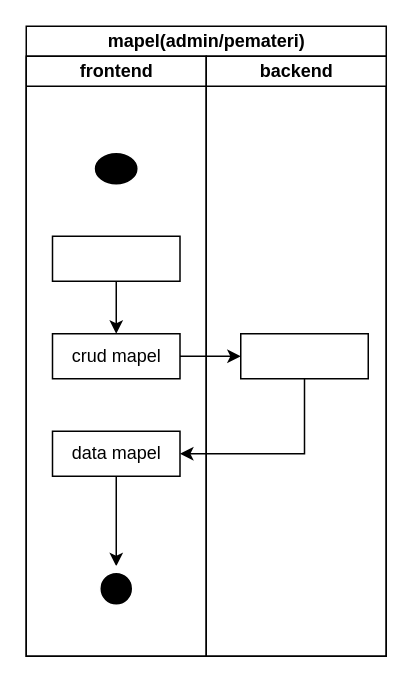
Some shapes in this 413 by 683 pixel diagram are drawn without their labels. The shapes that lost their labels are listed below. From the top down, each one's centre as x and y in pixels, then its label:
point (115, 258): mapel button
point (303, 355): operasi crud
